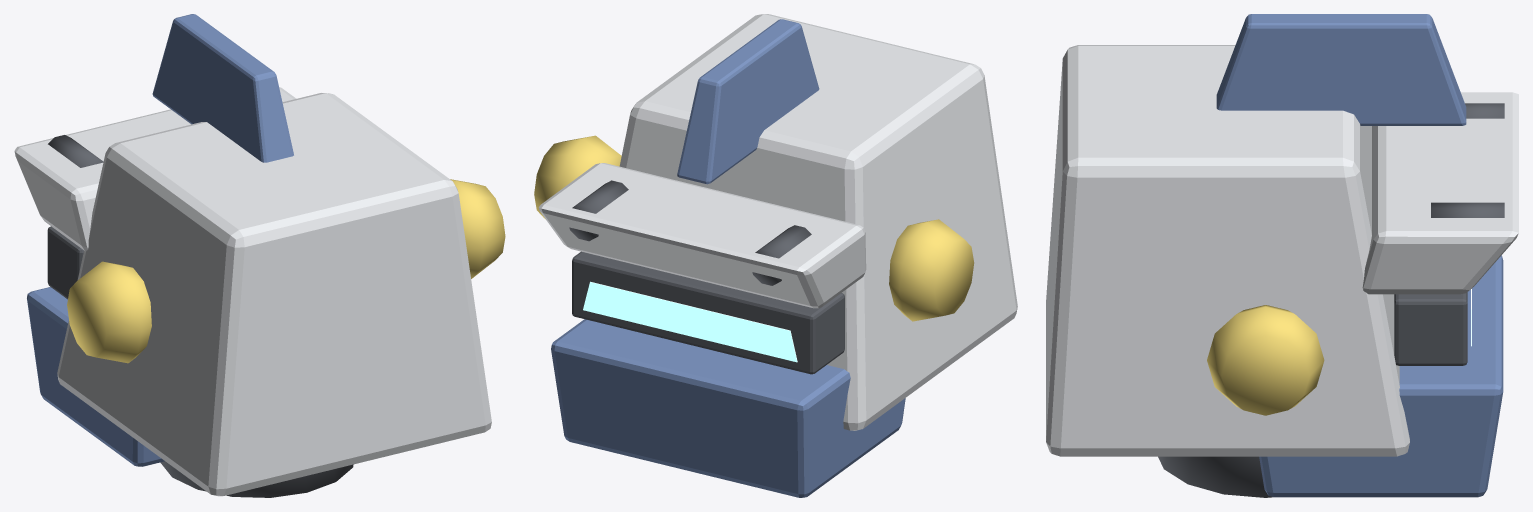
Rendered from head_visor.glb.
The picture shows the model from 3 angles, left to right: view 1: azimuth 30°, elevation 25°; view 2: azimuth 150°, elevation 25°; view 3: azimuth 270°, elevation 25°; orthographic projection. The views are drawn at different scales.
Visible parts, largest first — view 1: skull, crest, brow, sensor, jaw, sensor.001, neck, visor_slot, vulcan; view 2: skull, jaw, brow, crest, visor_slot, sensor, visor, sensor.001, vulcan, vulcan.001; view 3: skull, brow, crest, jaw, sensor.001, visor_slot, neck, vulcan.001, vulcan.
Boxes of the visible parts, left/top/right/bottom form: skull: left=57, top=93, right=491, bottom=496; crest: left=152, top=14, right=293, bottom=162; brow: left=14, top=87, right=296, bottom=251; sensor: left=67, top=261, right=151, bottom=363; jaw: left=27, top=287, right=164, bottom=466; sensor.001: left=450, top=179, right=505, bottom=278; neck: left=160, top=461, right=353, bottom=497; visor_slot: left=47, top=226, right=83, bottom=299; vulcan: left=48, top=135, right=103, bottom=167; skull: left=619, top=14, right=1017, bottom=430; jaw: left=551, top=319, right=905, bottom=497; brow: left=538, top=163, right=866, bottom=308; crest: left=677, top=19, right=819, bottom=184; visor_slot: left=572, top=251, right=844, bottom=374; sensor: left=889, top=219, right=974, bottom=321; visor: left=583, top=281, right=797, bottom=362; sensor.001: left=534, top=135, right=621, bottom=219; vulcan: left=752, top=225, right=811, bottom=285; vulcan.001: left=569, top=180, right=628, bottom=241; skull: left=1046, top=45, right=1409, bottom=456; brow: left=1362, top=92, right=1518, bottom=294; crest: left=1216, top=14, right=1466, bottom=125; jaw: left=1259, top=255, right=1503, bottom=497; sensor.001: left=1207, top=305, right=1324, bottom=415; visor_slot: left=1394, top=292, right=1467, bottom=365; neck: left=1158, top=456, right=1272, bottom=497; vulcan.001: left=1431, top=202, right=1504, bottom=217; vulcan: left=1465, top=103, right=1504, bottom=118.
Size of the model in its own units: 2.38 by 2.21 by 2.19.
